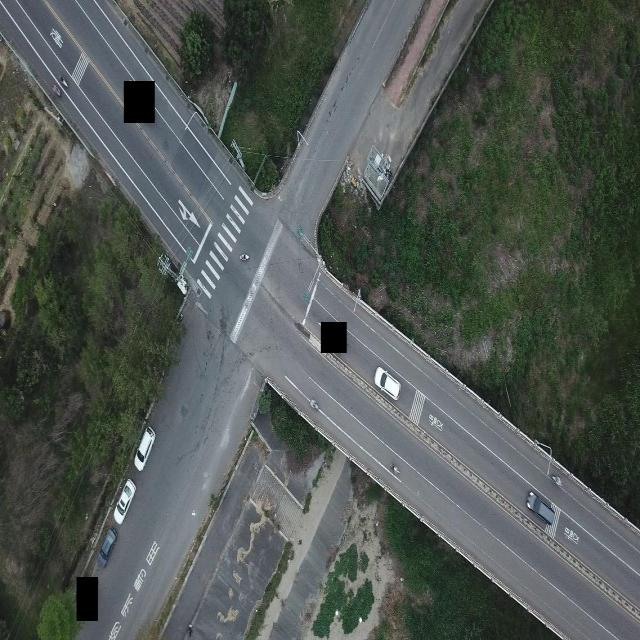bike: (550, 470, 564, 488), (240, 252, 249, 261)
car: (113, 478, 136, 525), (526, 490, 555, 525), (134, 425, 155, 472), (374, 366, 401, 400), (97, 527, 117, 568)
